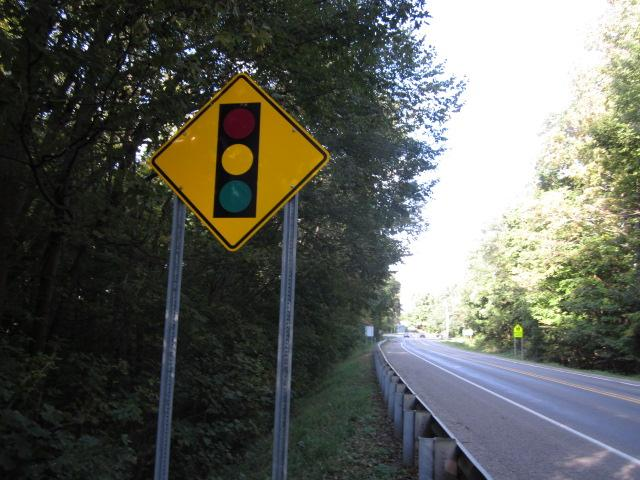warning: (143, 71, 331, 253)
